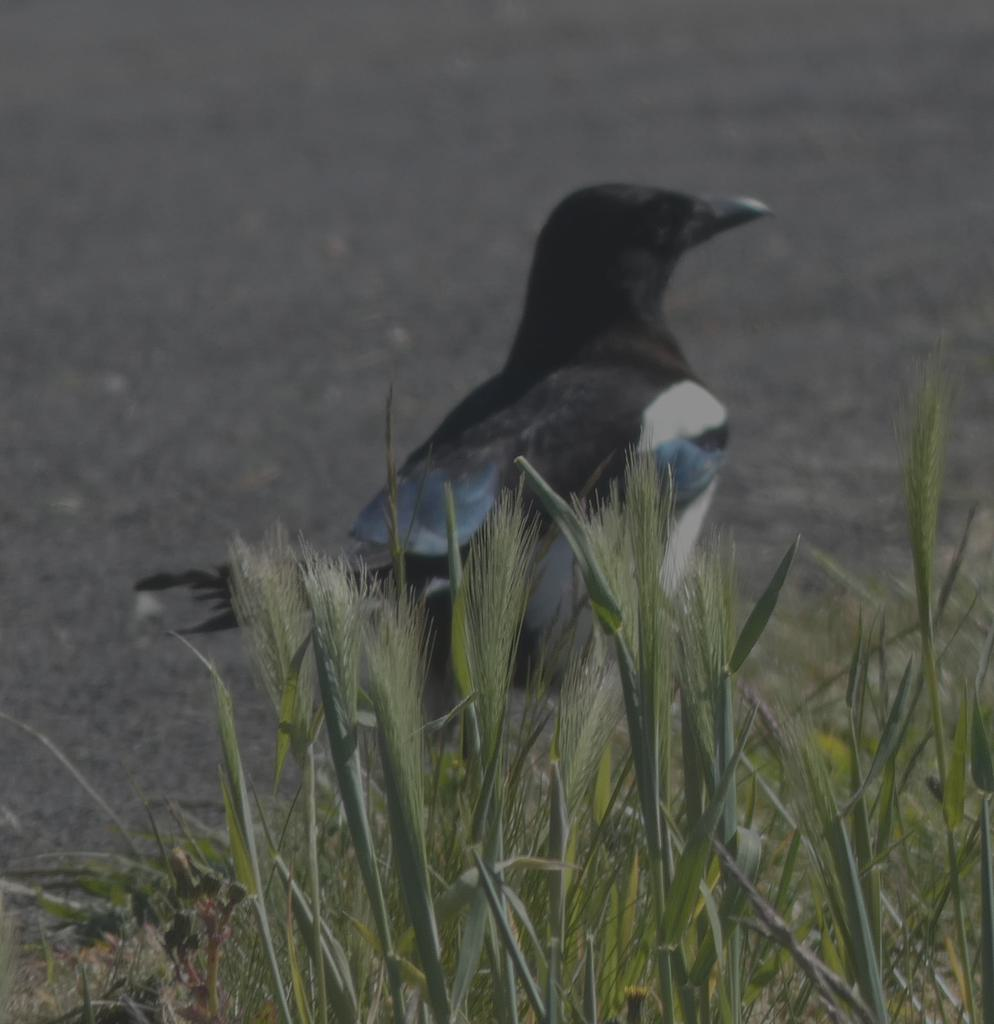PicaPica: (133, 182, 774, 742)
